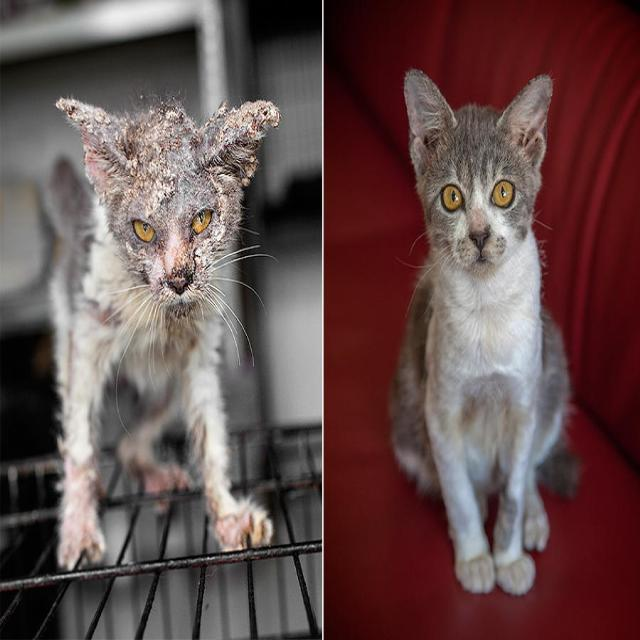cat-scabies: (120, 104, 234, 312), (190, 92, 290, 207), (51, 87, 140, 201), (51, 446, 111, 574), (200, 465, 276, 563)
